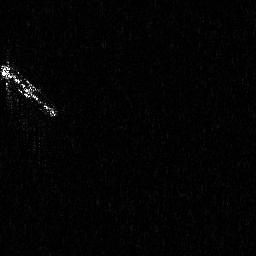ship: (1, 59, 61, 119)
